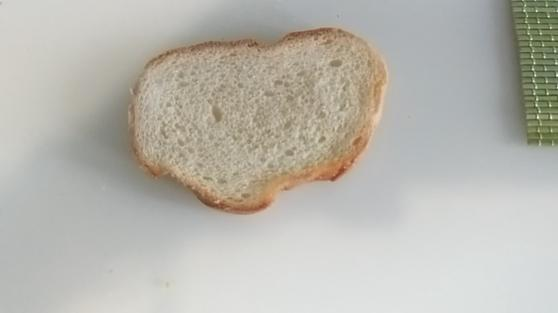white_bread: (126, 22, 390, 217)
